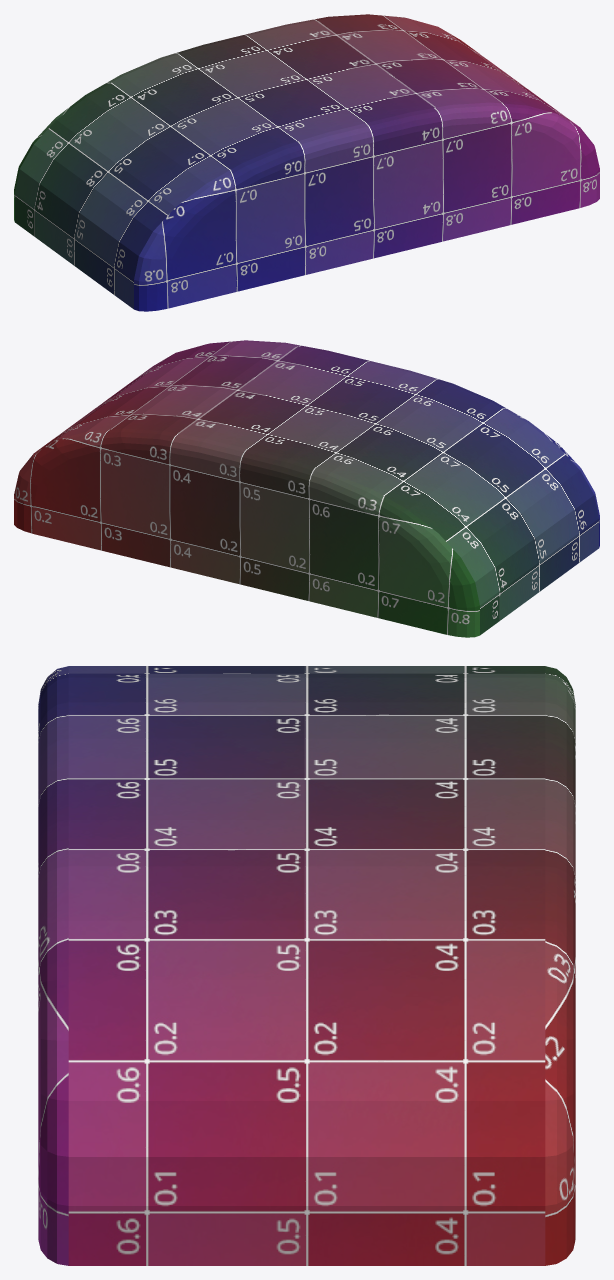
The model's file is paddle_turqoise_metal.glb.
3 renders of one model, top to bottom at view 1: azimuth 30°, elevation 25°; view 2: azimuth 150°, elevation 25°; view 3: azimuth 270°, elevation 25°, orthographic. The views are drawn at different scales.
Visible parts, largest first — view 1: Paddle; view 2: Paddle; view 3: Paddle.
Part boxes in pixels (x1=…): Paddle: x1=14, y1=14, x2=599, y2=311; Paddle: x1=14, y1=340, x2=599, y2=637; Paddle: x1=38, y1=666, x2=575, y2=1265.
Size of the model in its own units: 4 by 1.07 by 2.
Materials: 1 (1 with a texture image).
